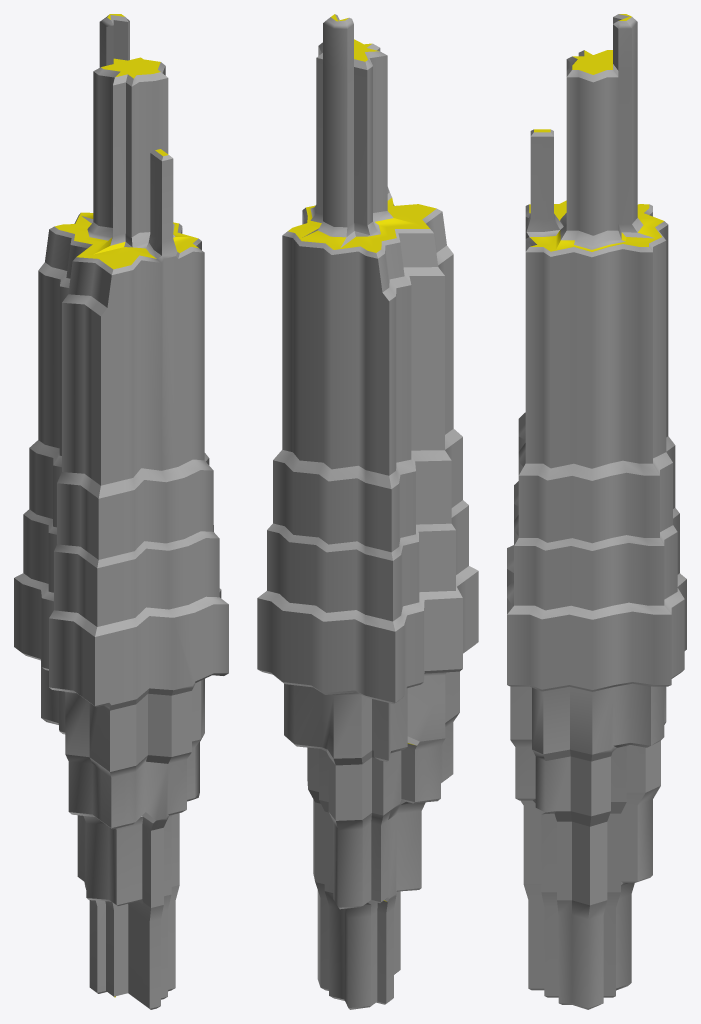
The model's file is pruebaMontana1.fbx.
3 views of the same model, side by side, from view 1: azimuth 30°, elevation 25°; view 2: azimuth 150°, elevation 25°; view 3: azimuth 270°, elevation 25° (orthographic). The views are drawn at different scales.
Parts seen in each view (by area): view 1: pCube2; view 2: pCube2; view 3: pCube2.
Boxes of the visible parts, x1,y1,x2,y2 form: pCube2: [14, 14, 228, 1009]; pCube2: [257, 14, 478, 1009]; pCube2: [507, 14, 686, 1009].
Size of the model in its own units: 6.63 by 38.03 by 6.36.
